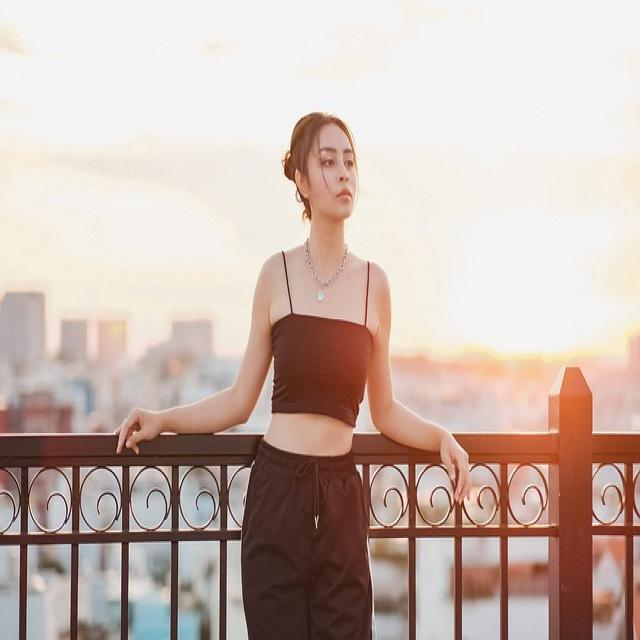Real human 2: (106, 101, 477, 639)
